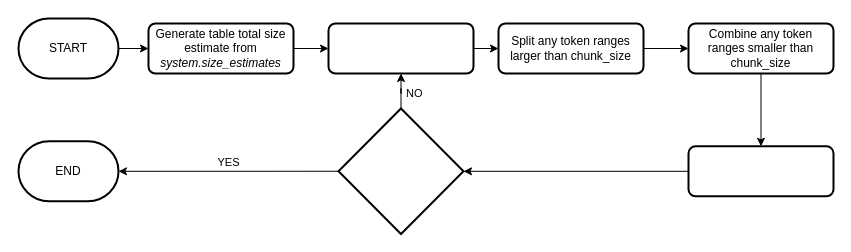
Some shapes in this 851 by 252 pixel diagram are drawn without their labels. Here are the shapes that lost their labels. From the top down, the centre of each, then its label:
(400,48): Get token ranges owned by next Cassandra node
(400,170): Last Cassandra node?
(760,171): Store new set of token ranges as partitions for this Cassandra node
